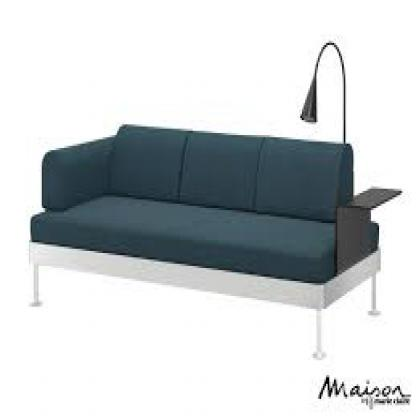sofa: (23, 120, 388, 350)
